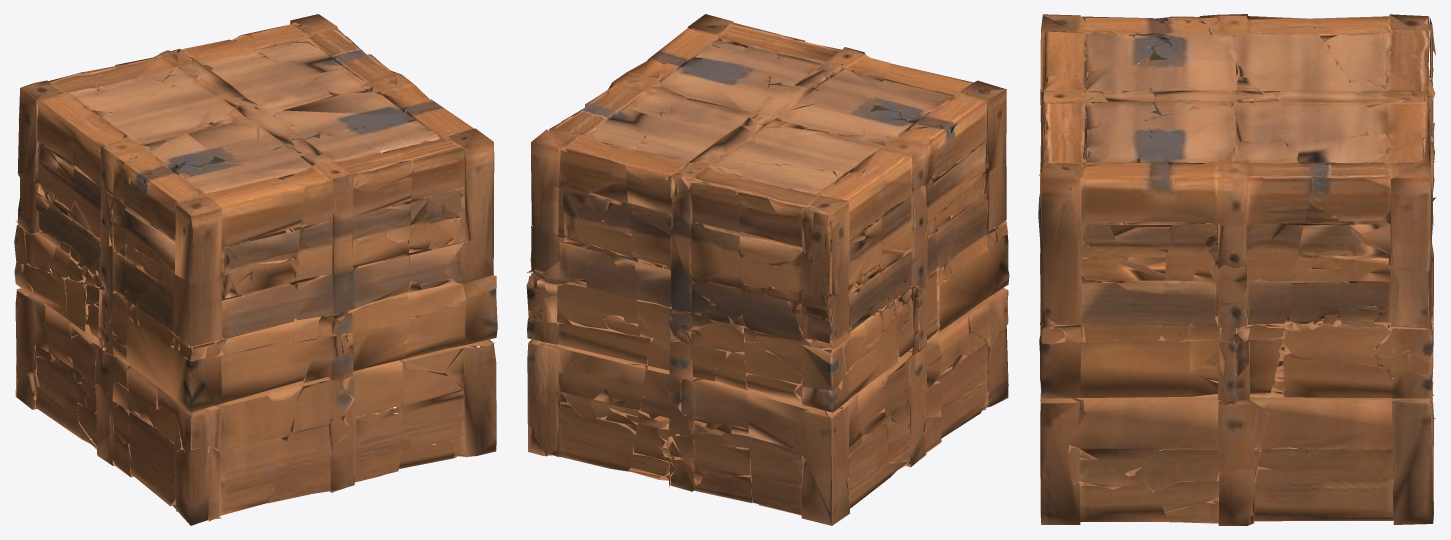
The model's file is crate-mound.glb.
3 views of the same model, side by side, from view 1: azimuth 30°, elevation 25°; view 2: azimuth 150°, elevation 25°; view 3: azimuth 270°, elevation 25° (orthographic). The views are drawn at different scales.
Parts seen in each view (by area): view 1: crate-mound; view 2: crate-mound; view 3: crate-mound.
Boxes of the visible parts, x1=… form: crate-mound: x1=14, y1=14, x2=497, y2=525; crate-mound: x1=526, y1=14, x2=1009, y2=525; crate-mound: x1=1038, y1=14, x2=1436, y2=525.
Bounding box in the file's own units: 2.4 × 2.35 × 2.4.
1 material, 1 textured.
